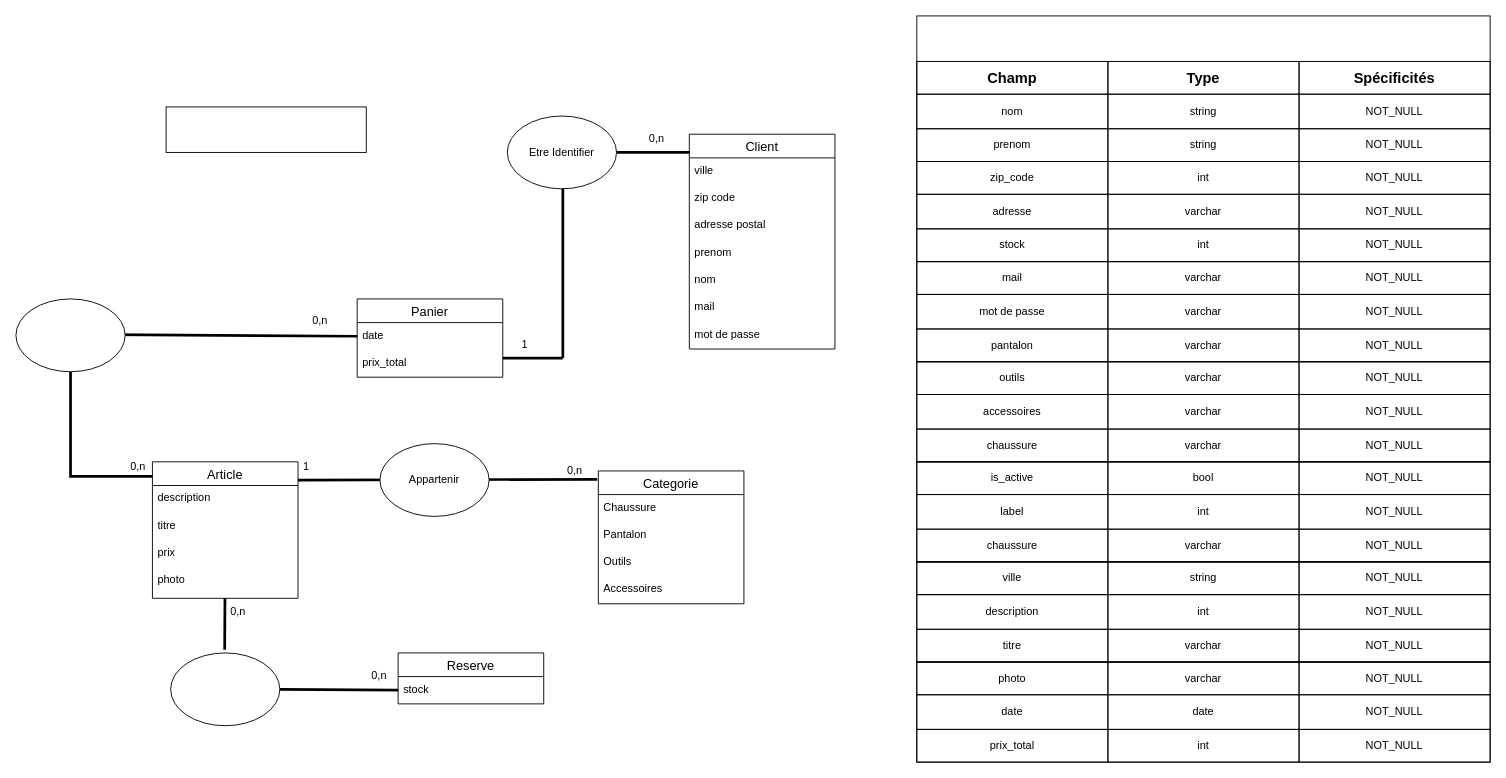
Some shapes in this 1506 by 778 pixel diagram are drawn without their labels. Here are the shapes that lost their labels. From the top down, the centre of each, then its label:
(1203,38): Dictionnaire de données
(265,129): Diagramme MCD
(70,335): Etre Disponible
(225,689): Stocker
